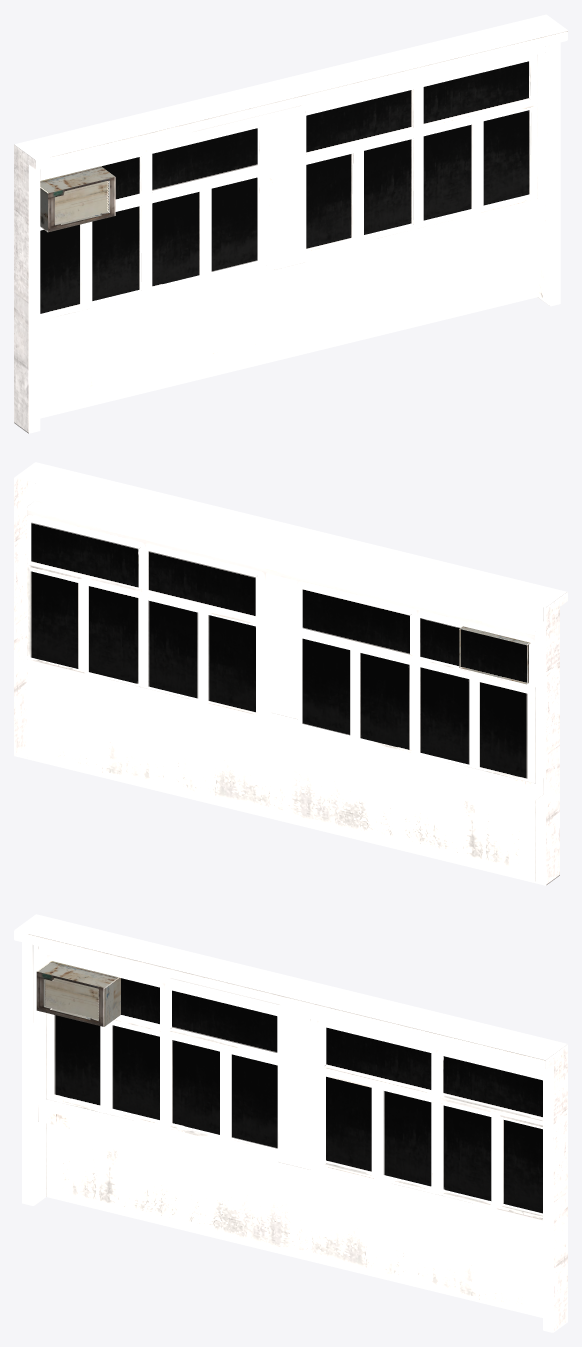
3 renders of one model, top to bottom at view 1: azimuth 30°, elevation 25°; view 2: azimuth 150°, elevation 25°; view 3: azimuth 330°, elevation 25°, orthographic.
Visible parts, largest first — view 1: S_B_5; view 2: S_B_5; view 3: S_B_5.
Part boxes in pixels (x1=…): S_B_5: x1=14, y1=14, x2=567, y2=433; S_B_5: x1=14, y1=462, x2=567, y2=885; S_B_5: x1=14, y1=914, x2=567, y2=1332.
Bounding box in the file's own units: 480 × 240 × 37.08.
1 material, 1 textured.
